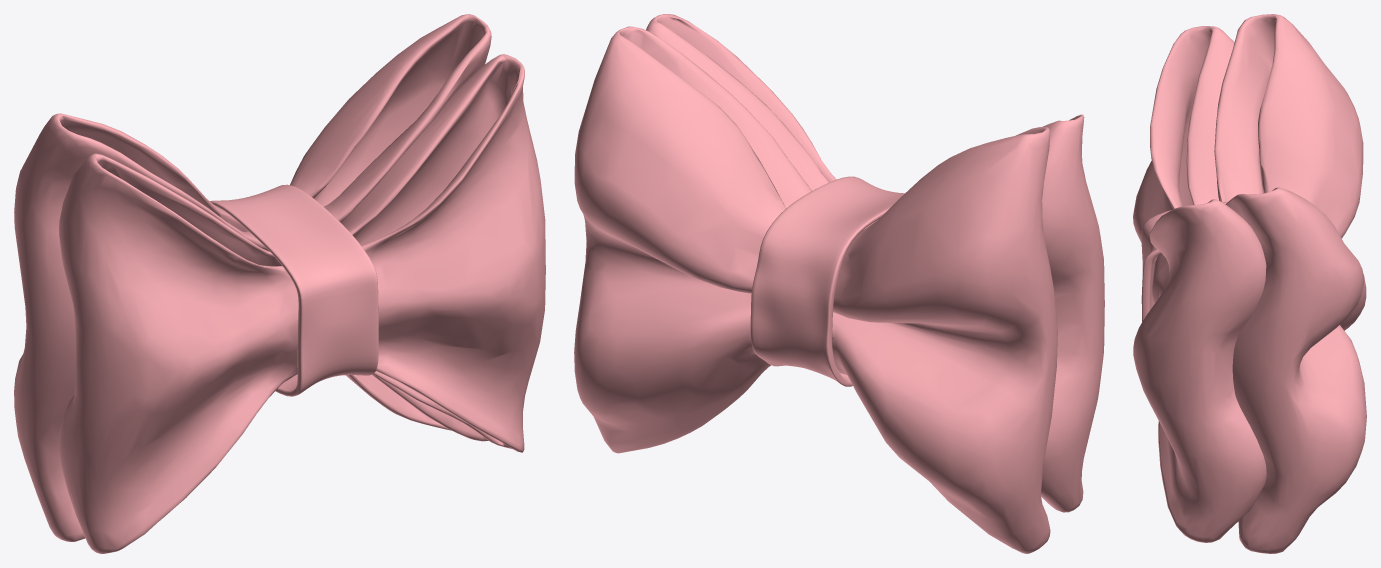
The model's file is bow_interactable.fbx.
3 renders of one model, left to right at view 1: azimuth 30°, elevation 25°; view 2: azimuth 150°, elevation 25°; view 3: azimuth 270°, elevation 25°, orthographic. The views are drawn at different scales.
Parts seen in each view (by area): view 1: bow_interactable; view 2: bow_interactable; view 3: bow_interactable.
Boxes of the visible parts, x1,y1,x2,y2 form: bow_interactable: [14, 14, 545, 553]; bow_interactable: [574, 14, 1104, 553]; bow_interactable: [1133, 14, 1366, 553].
Size of the model in its own units: 297 by 258 by 150.
